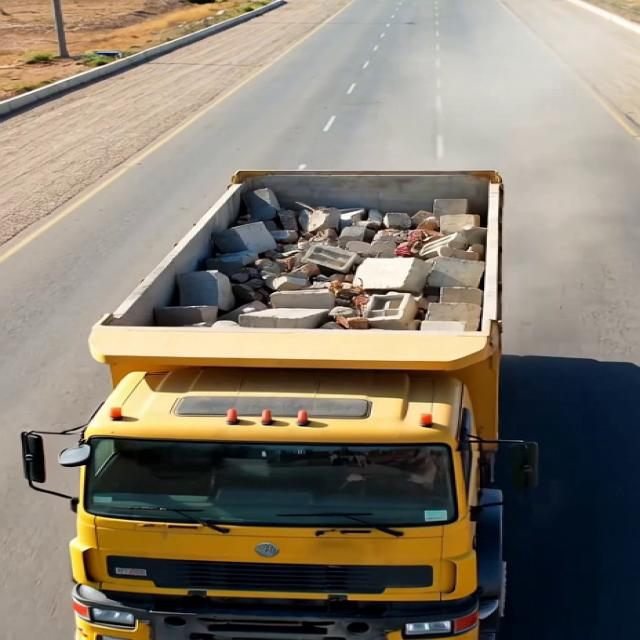Box: (93, 160, 512, 368)
Truck: (16, 141, 541, 640)
